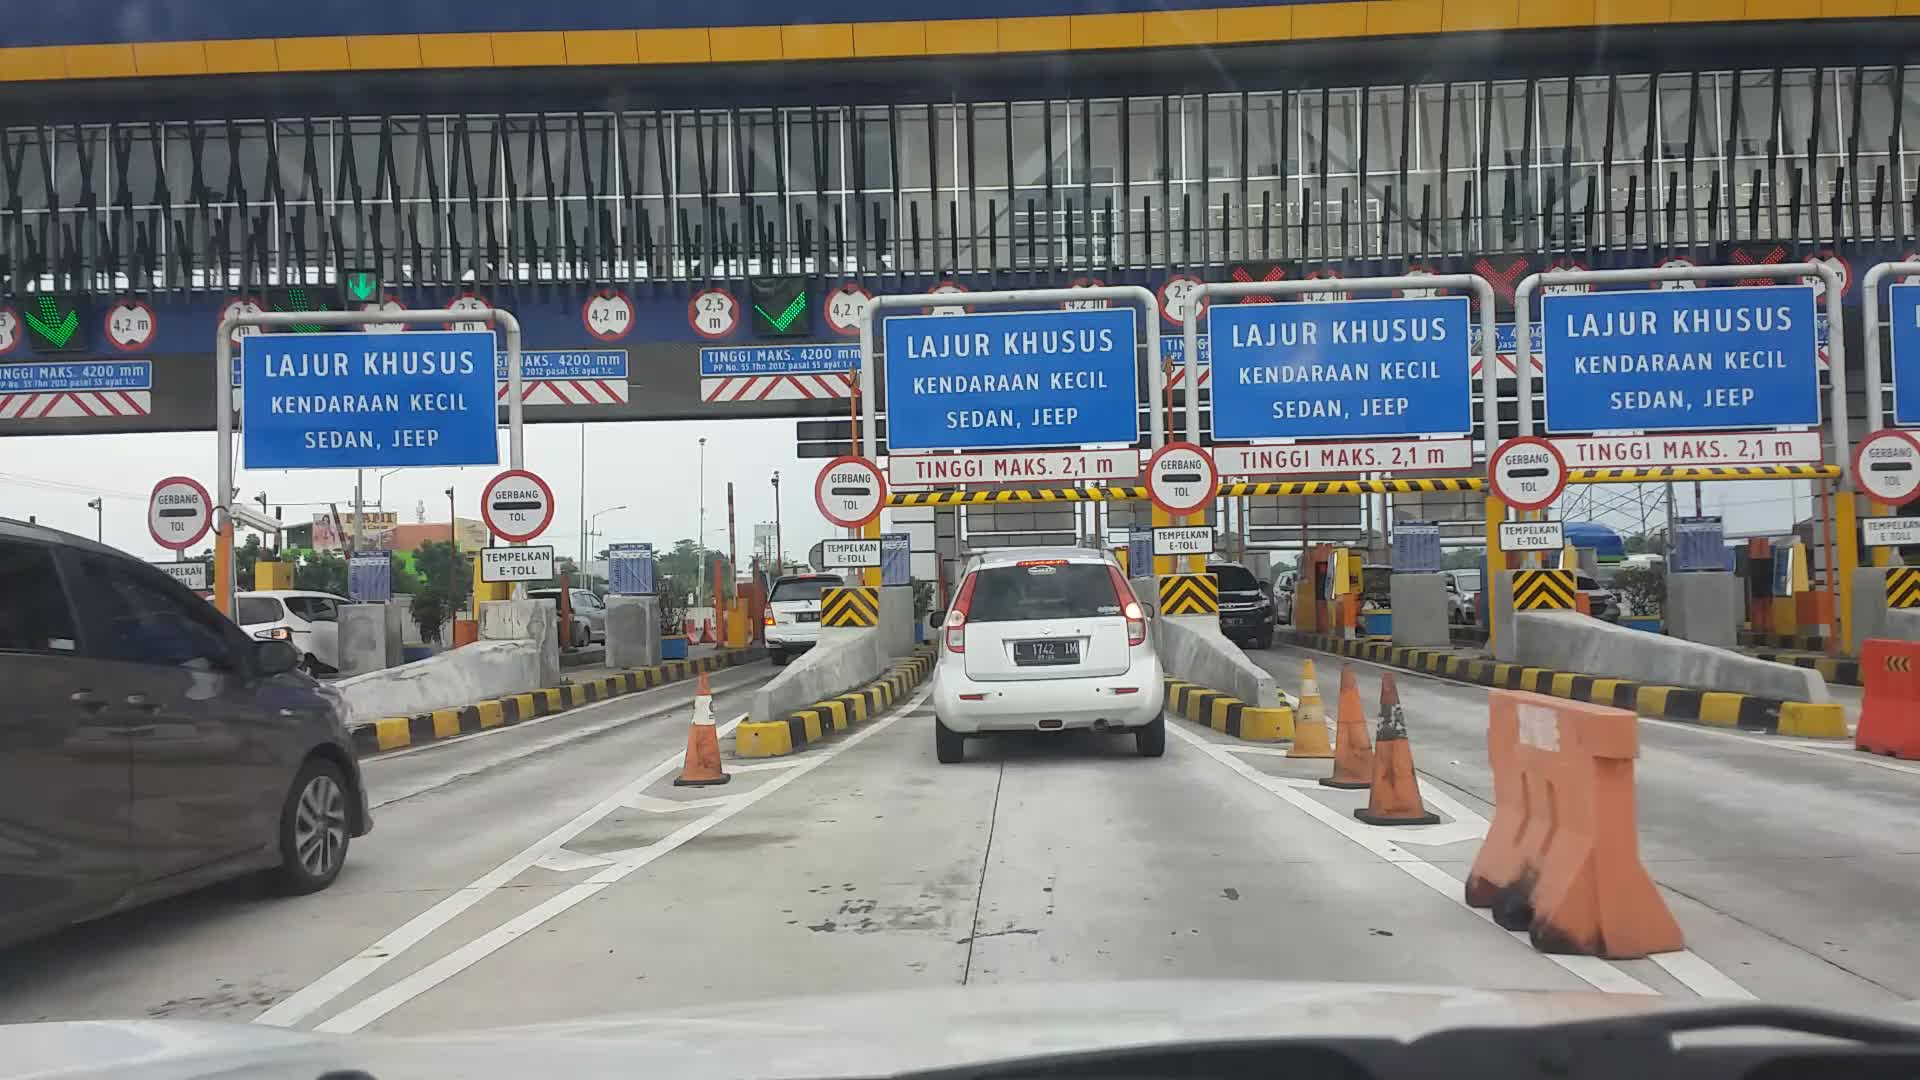plate_positive: (1014, 641, 1080, 666)
